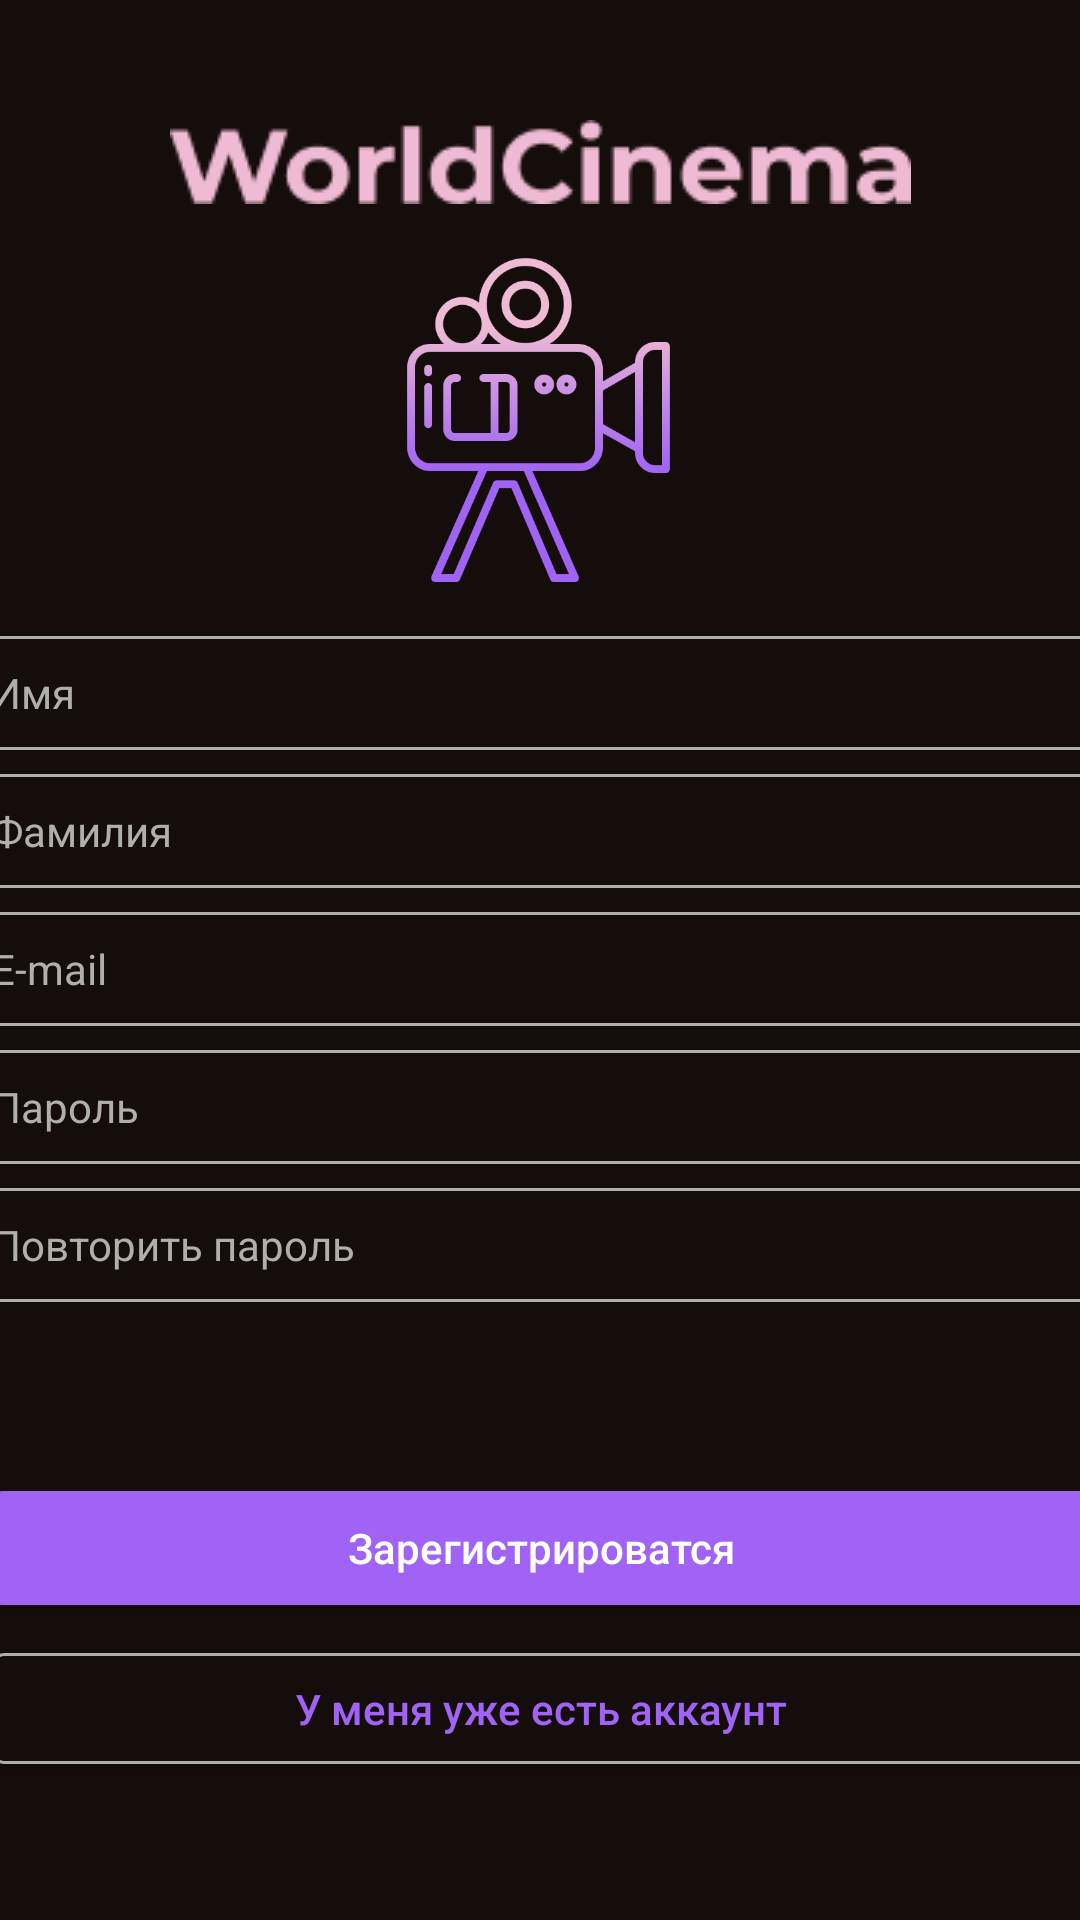

Screen size 1080px x 1920px. Icon name, then its box in pixels as (x1, y1, x2, y2):
video camera: (407, 258, 670, 582)
